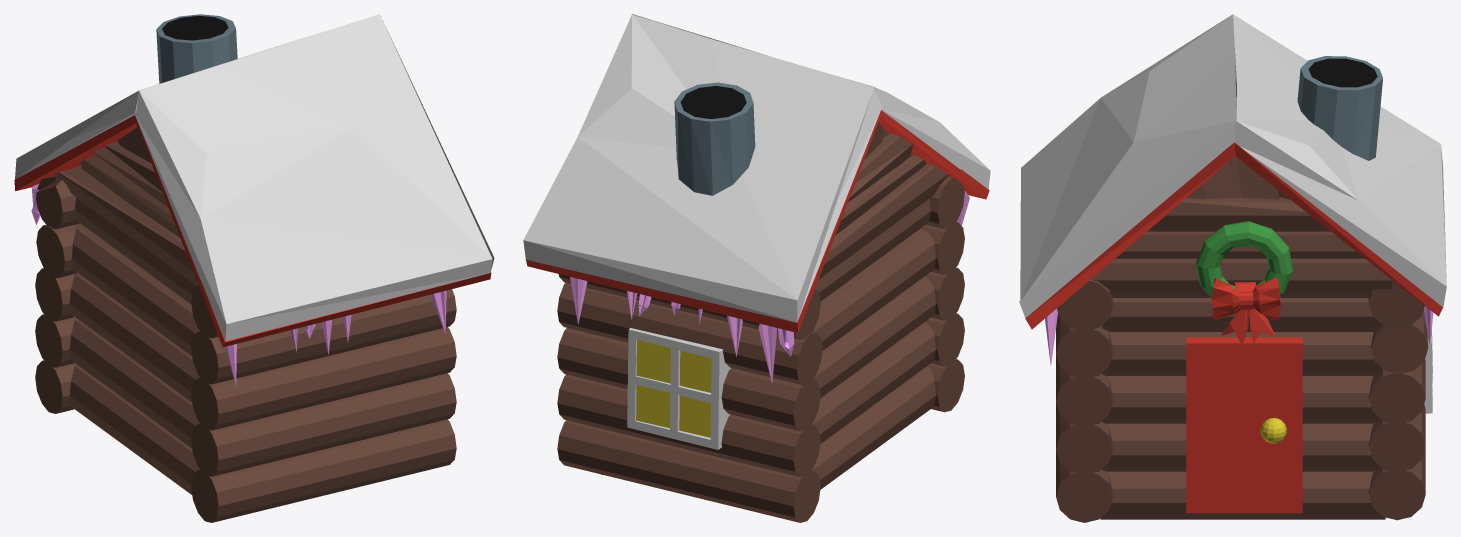
The model's file is house.gltf.
3 renders of one model, left to right at view 1: azimuth 30°, elevation 25°; view 2: azimuth 150°, elevation 25°; view 3: azimuth 270°, elevation 25°, orthographic. The views are drawn at different scales.
Parts seen in each view (by area): view 1: node_MeshObject-982868992-PolyPaper16, node_MeshObject-410789888-PolyGem25; view 2: node_MeshObject-982868992-PolyPaper16, node_MeshObject-410789888-PolyGem25; view 3: node_MeshObject-982868992-PolyPaper16, node_MeshObject-410789888-PolyGem25.
Part boxes in pixels (left/top/right/bottom): node_MeshObject-982868992-PolyPaper16: left=14, top=14, right=494, bottom=522; node_MeshObject-410789888-PolyGem25: left=31, top=184, right=446, bottom=386; node_MeshObject-982868992-PolyPaper16: left=523, top=14, right=990, bottom=522; node_MeshObject-410789888-PolyGem25: left=570, top=191, right=969, bottom=383; node_MeshObject-982868992-PolyPaper16: left=1019, top=14, right=1446, bottom=522; node_MeshObject-410789888-PolyGem25: left=1045, top=306, right=1433, bottom=365.
Size of the model in its own units: 0.9512 by 1.32 by 1.22.
